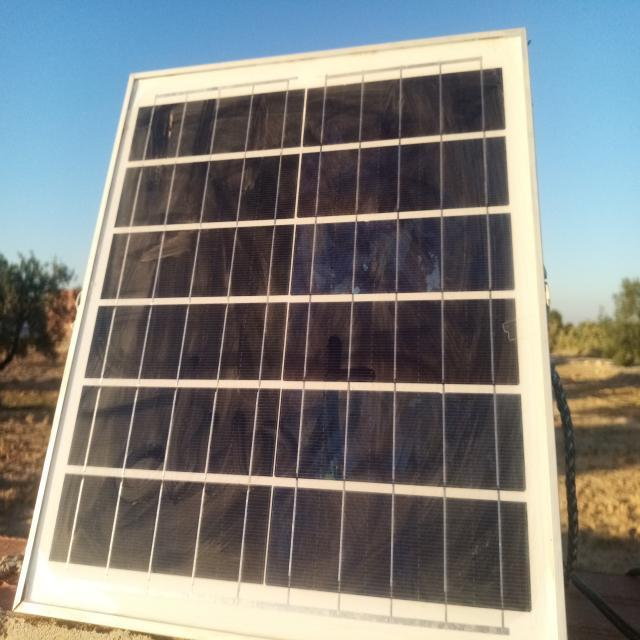faulty: (16, 31, 565, 639)
